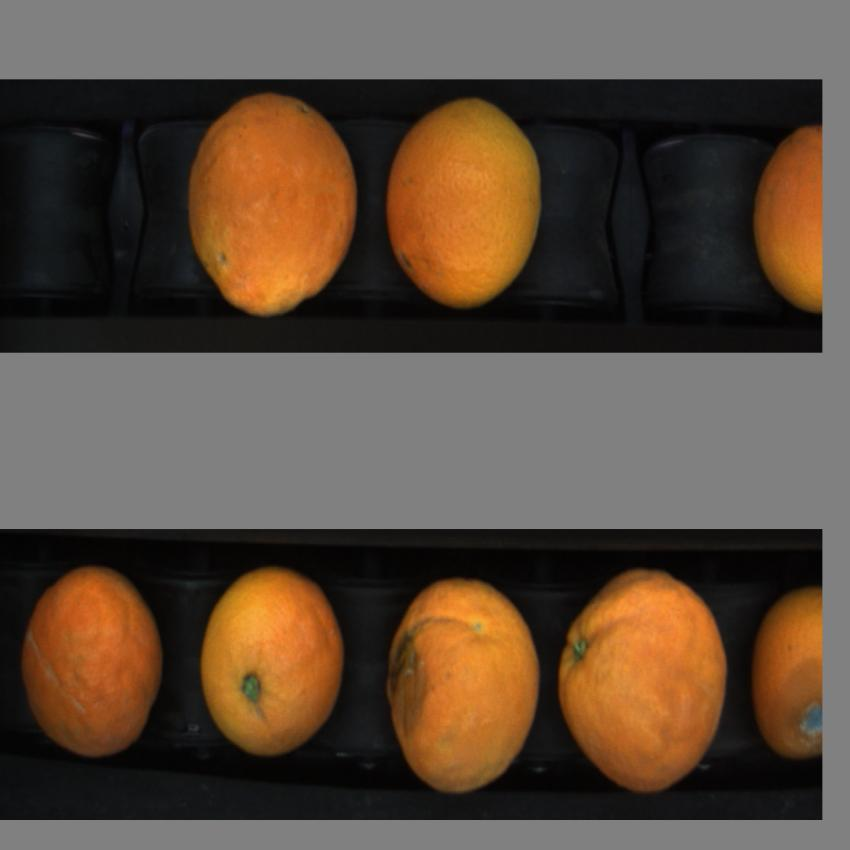Buen estado: (184, 90, 363, 328), (381, 87, 550, 315), (195, 558, 350, 768), (18, 560, 170, 773), (748, 116, 823, 317)
Mal estado: (555, 560, 731, 798), (380, 573, 548, 797), (752, 577, 823, 767)
